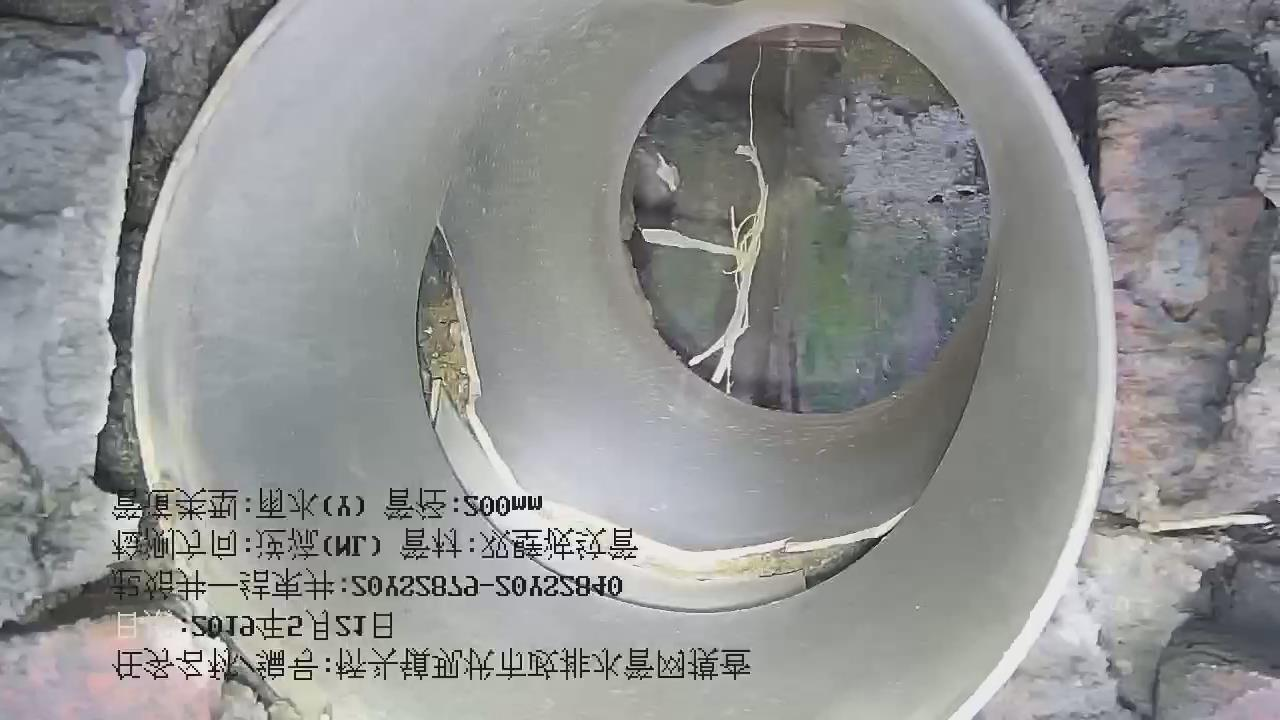PL: (393, 209, 968, 623)
